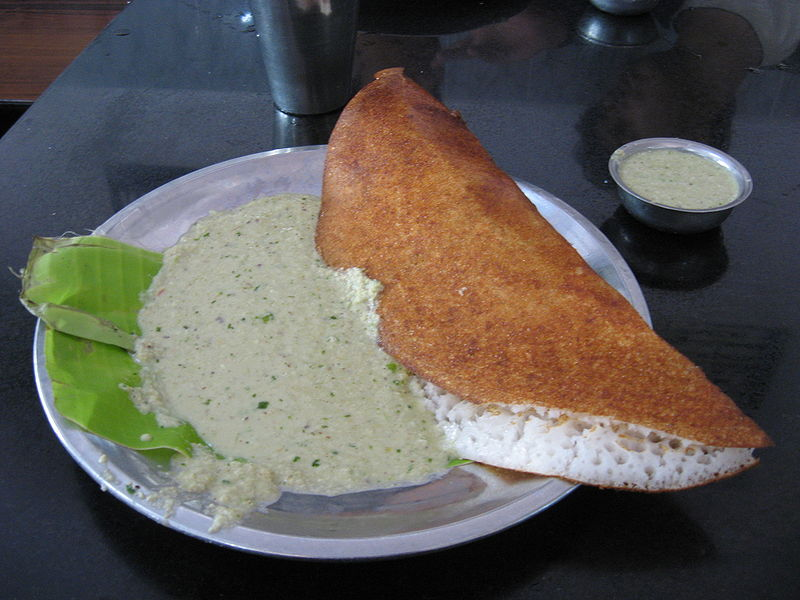dosa: (315, 60, 777, 498)
